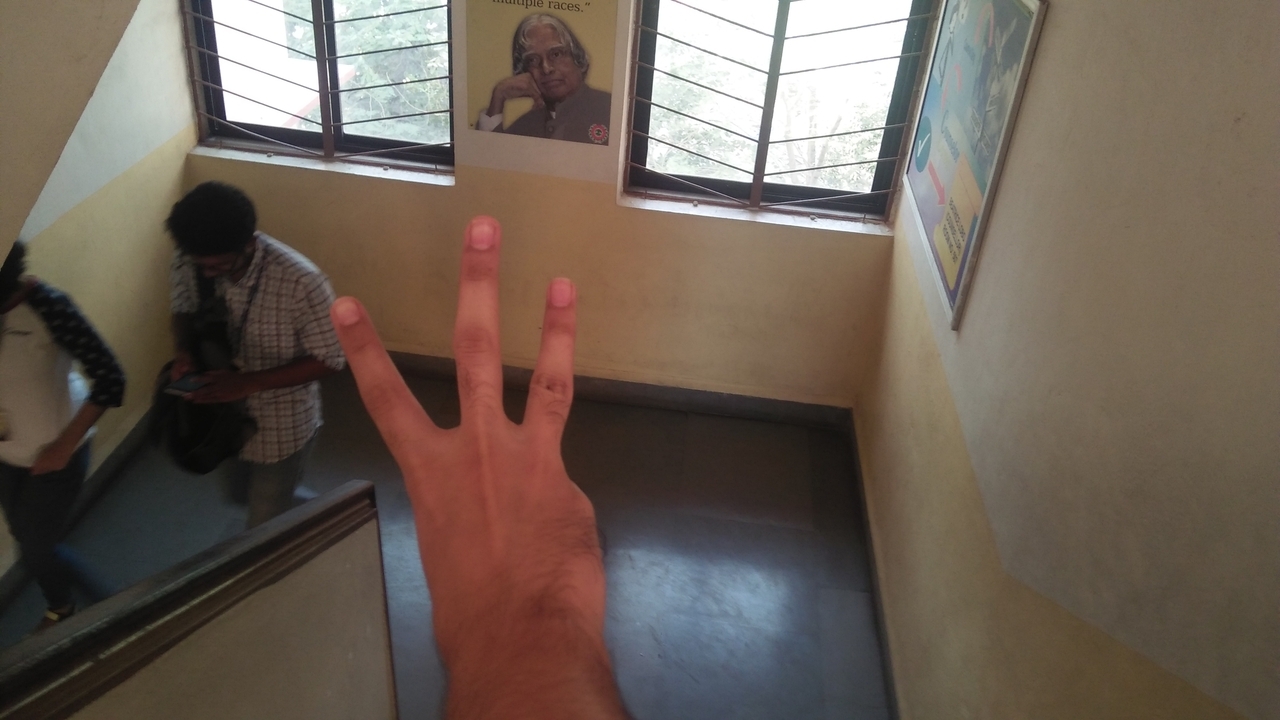fingertip: (450, 204, 508, 258), (316, 290, 372, 340), (536, 264, 582, 310)
